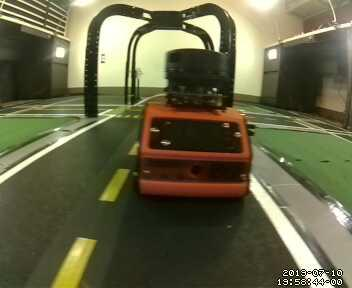pheeno: (140, 47, 254, 203)
